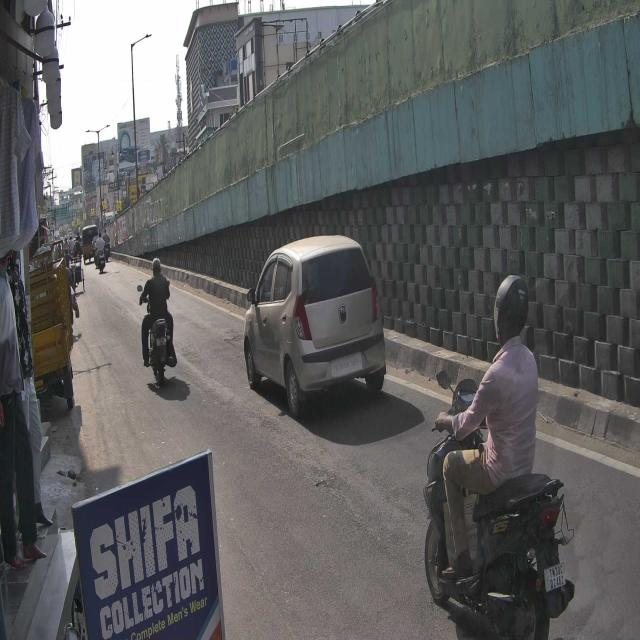single_rider: (425, 271, 574, 640)
